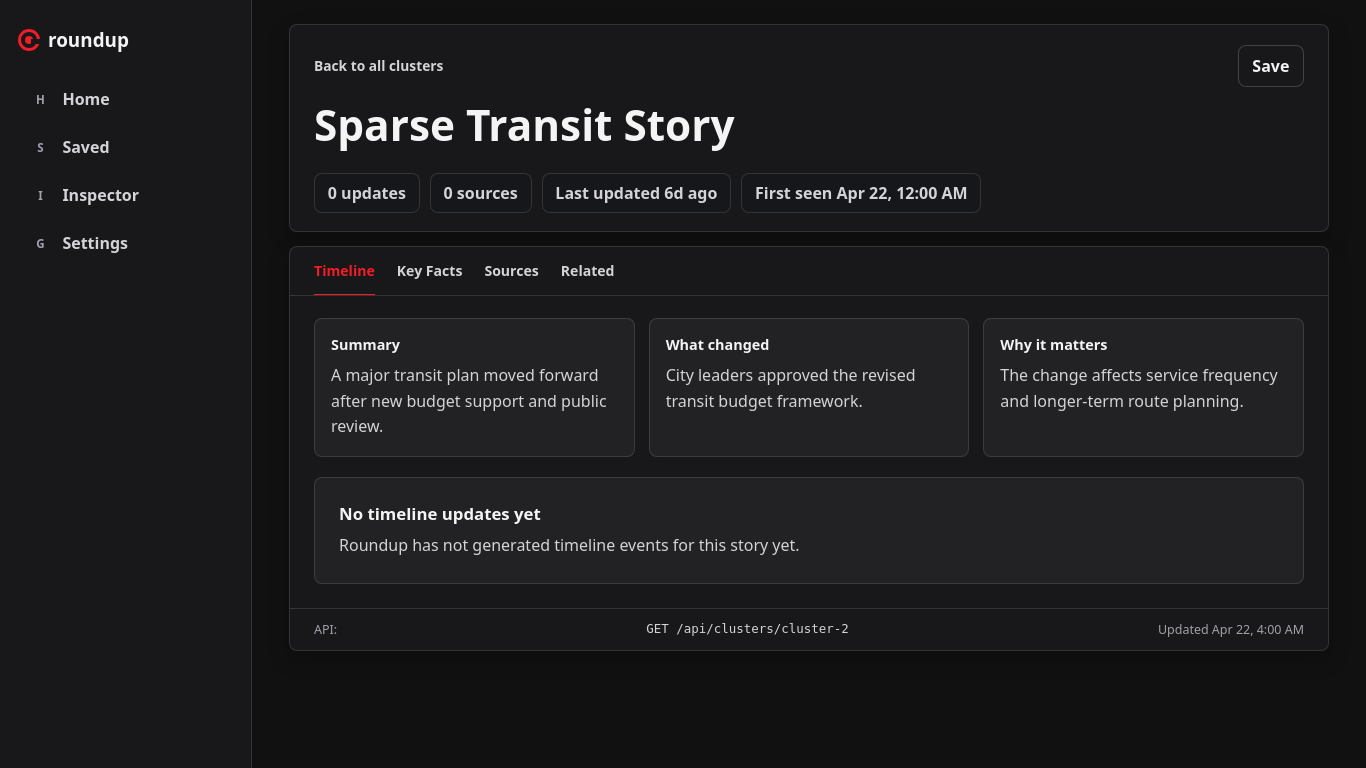
Test case: StoryDetailPage › handles missing optional enrichment fields with graceful tab empty states
Check: the heading "Sparse Transit Story" is shown, box top-left (314, 96), bottom-right (735, 153)
Check: the heading "No timeline updates yet" is shown, box top-left (339, 502), bottom-right (541, 525)
Click the tab "Key Facts".
click(430, 271)  # box top-left (397, 247), bottom-right (462, 295)
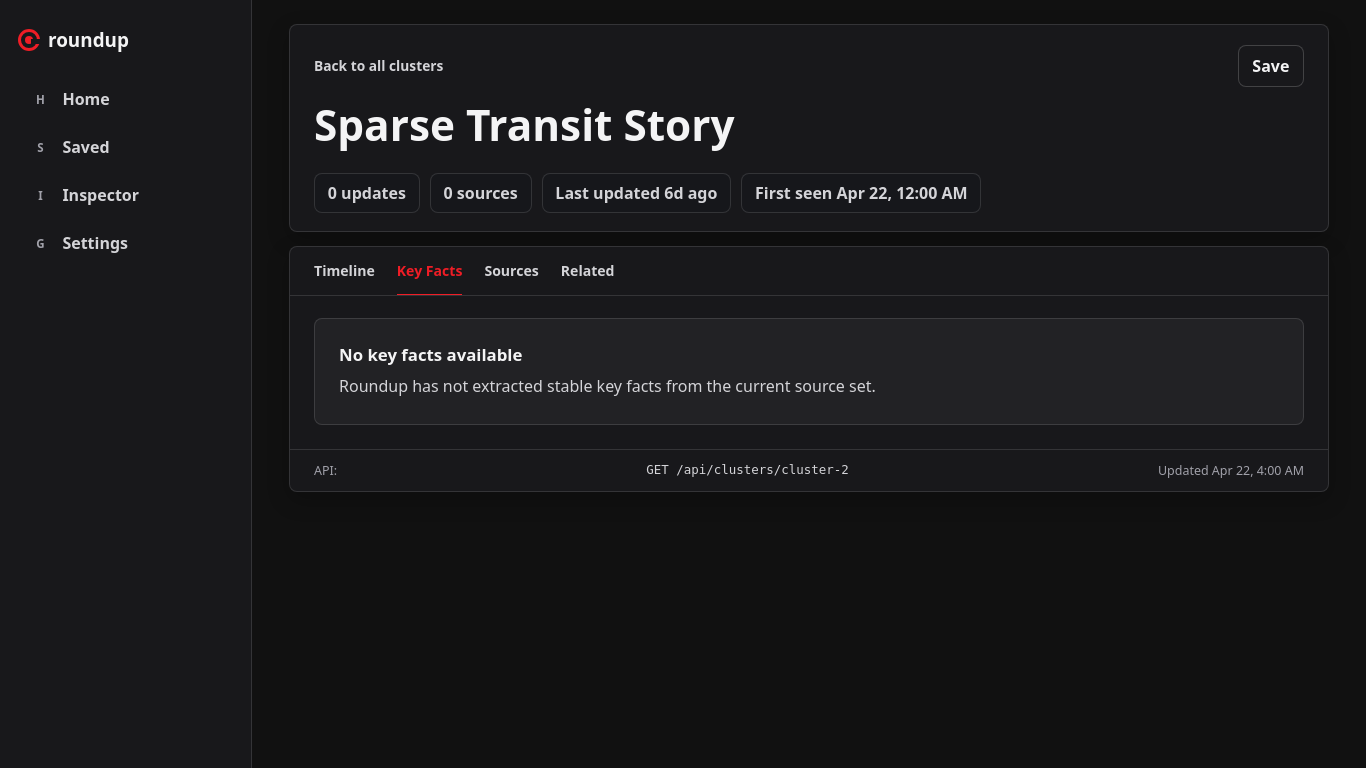
Check: the heading "No key facts available" is shown, box top-left (339, 343), bottom-right (522, 366)
Click the tab "Sources".
click(512, 271)  # box top-left (484, 247), bottom-right (539, 295)
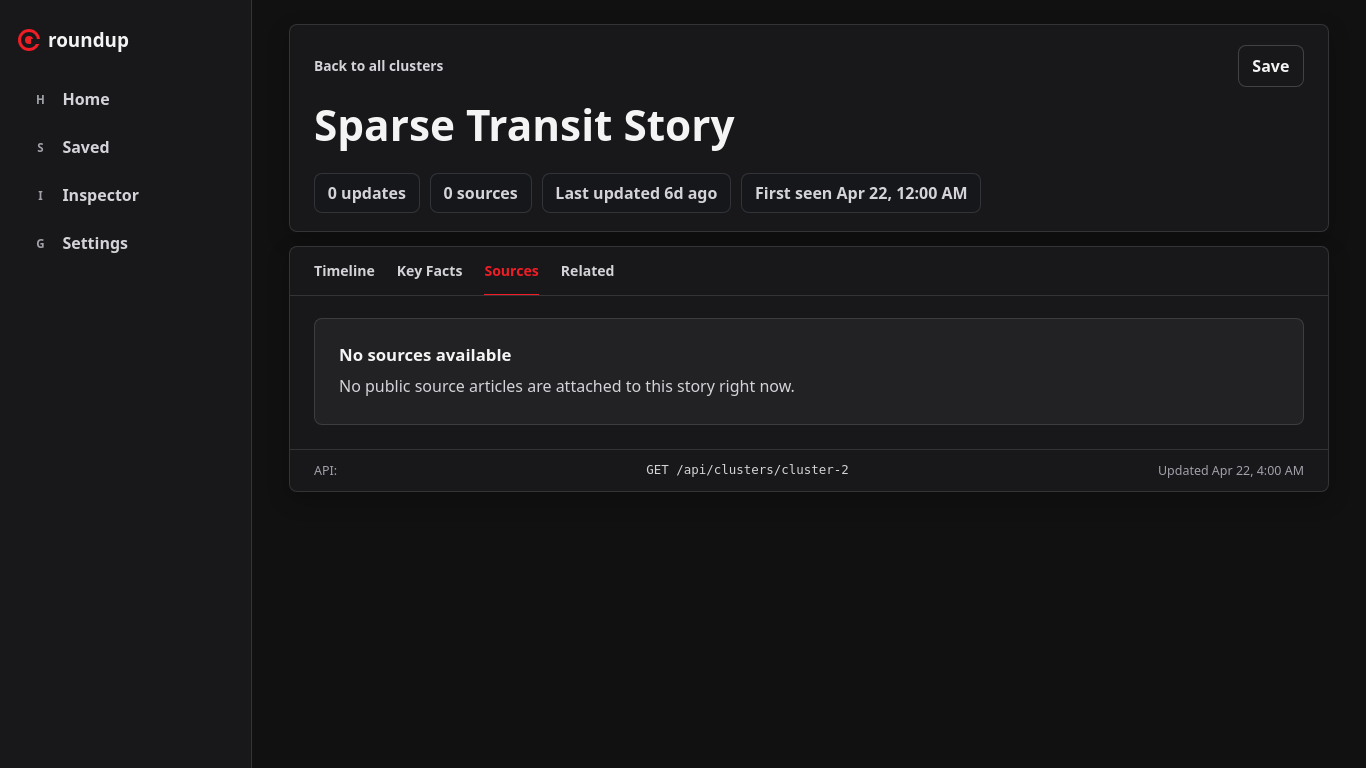
Check: the heading "No sources available" is shown, box top-left (339, 343), bottom-right (512, 366)
Click the tab "Related".
click(588, 271)  # box top-left (561, 247), bottom-right (615, 295)
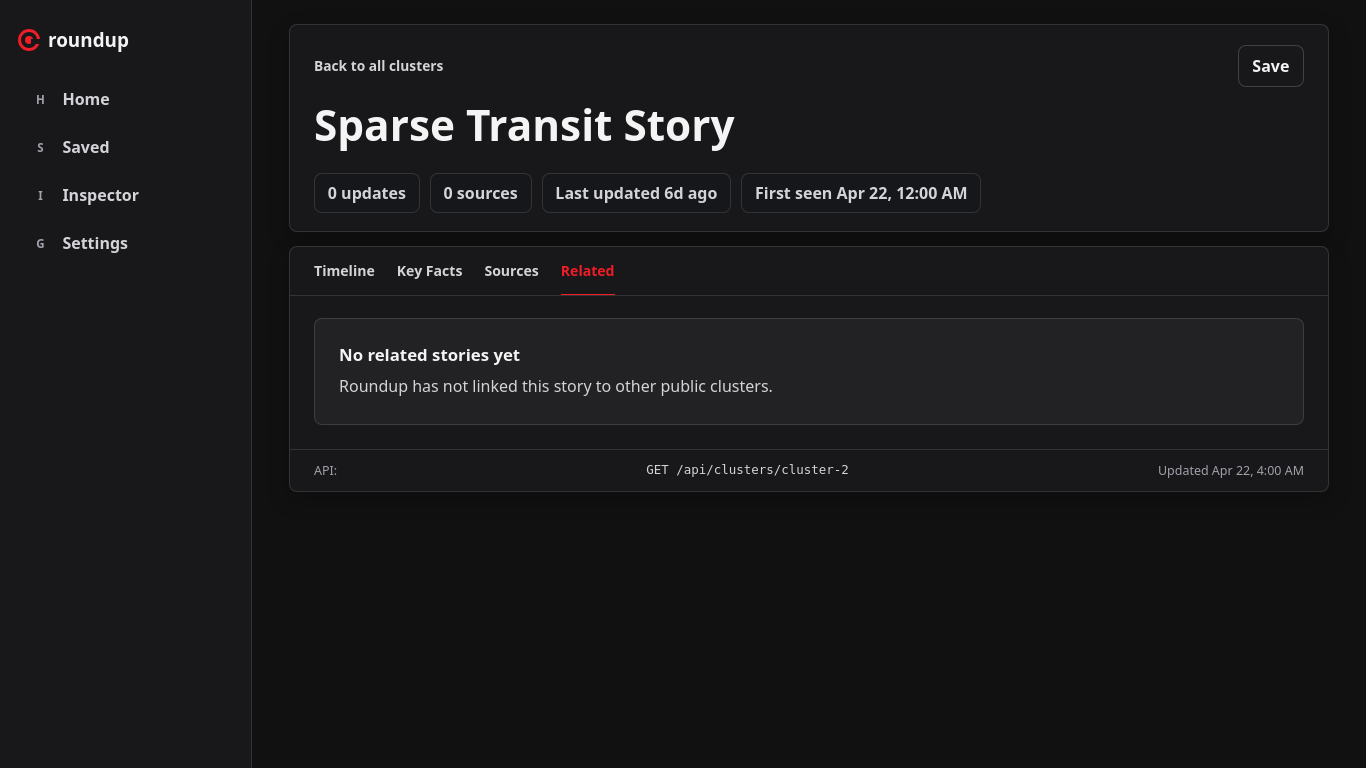
Check: the heading "No related stories yet" is shown, box top-left (339, 343), bottom-right (520, 366)
